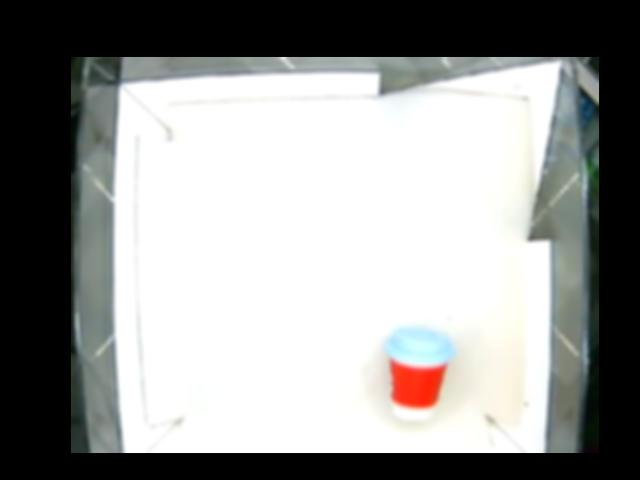Cup: (385, 325, 454, 422)
